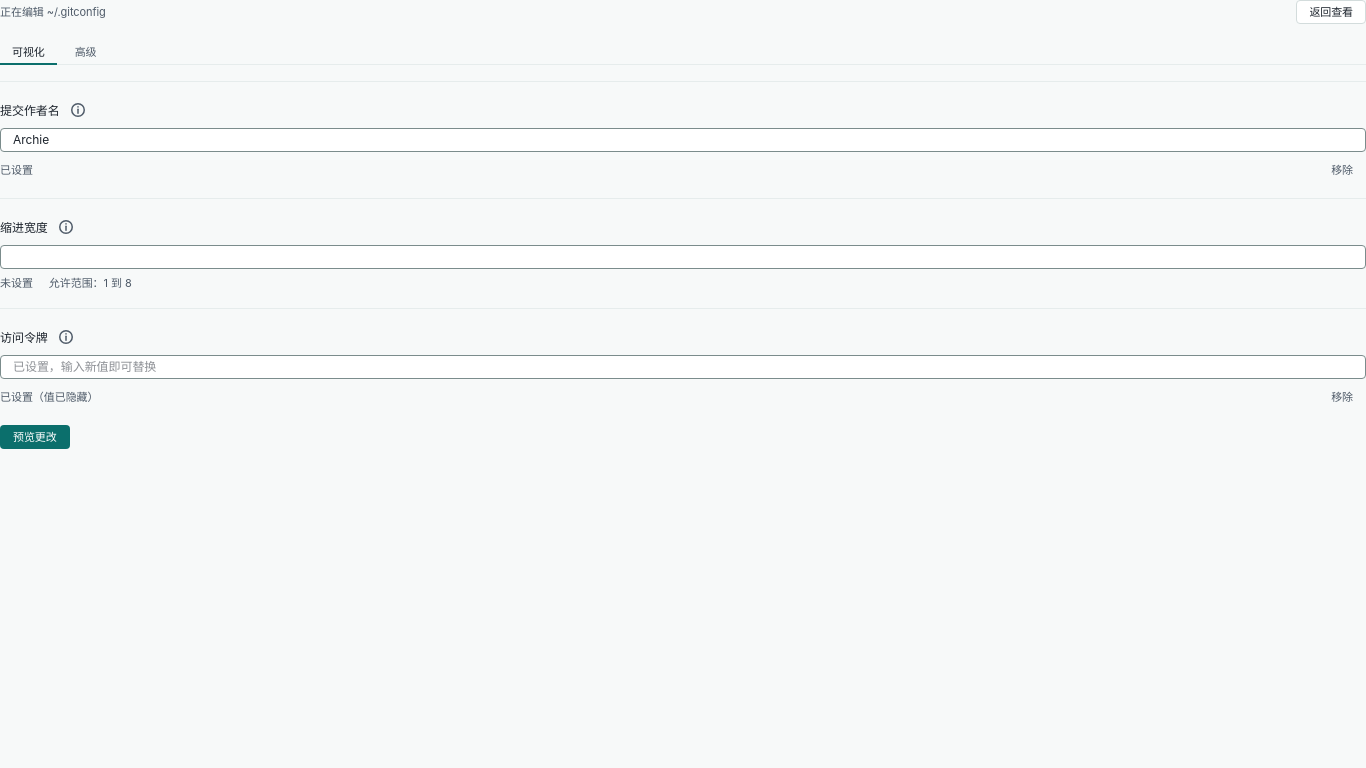
Scenario: AppConfigEditor 预览、确认与冲突 › does not write anything when the preview is cancelled
Expected: the button "预览更改" is shown, [0,425,70,449]
Replace the text in the field labelled "提交作者名" with "Bo" at [683, 140], box [0,128,1365,152]
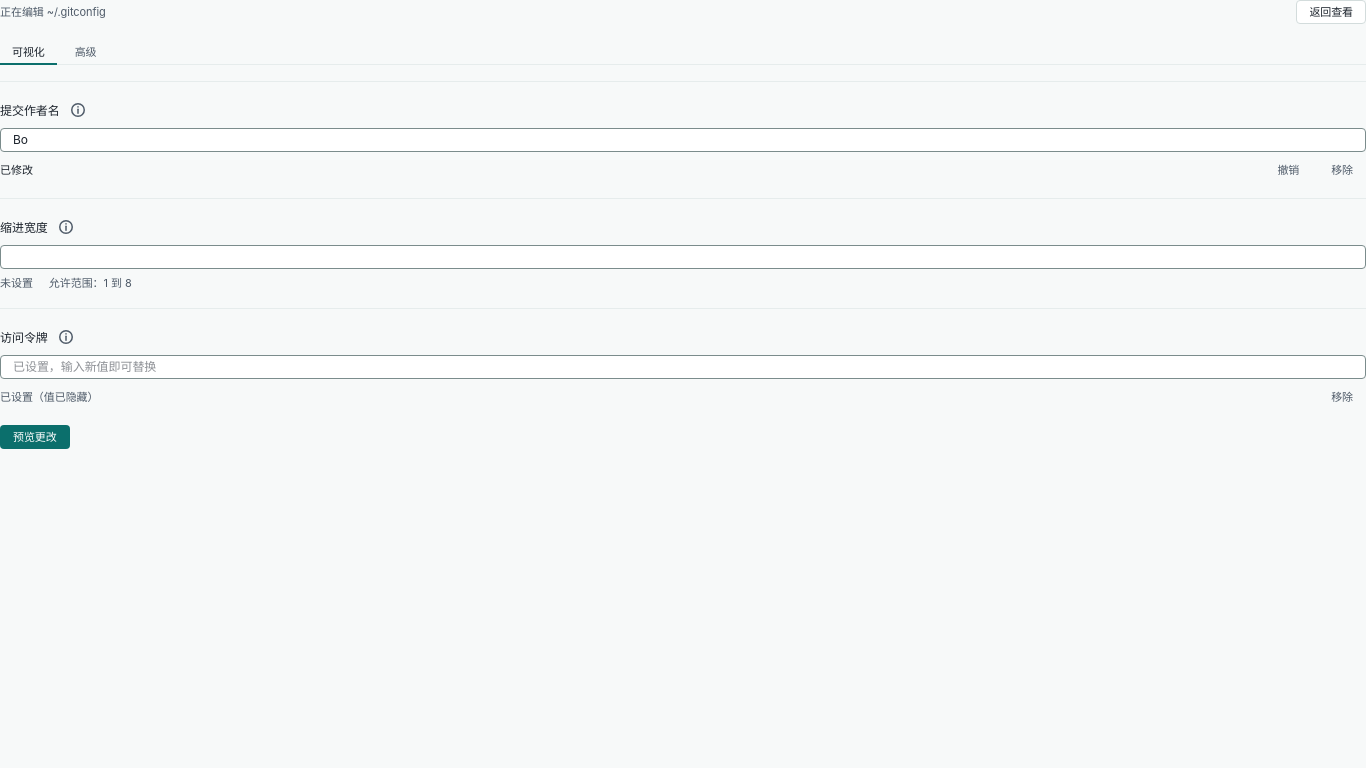
Click the button "预览更改" at [35, 437], box [0,425,70,449]
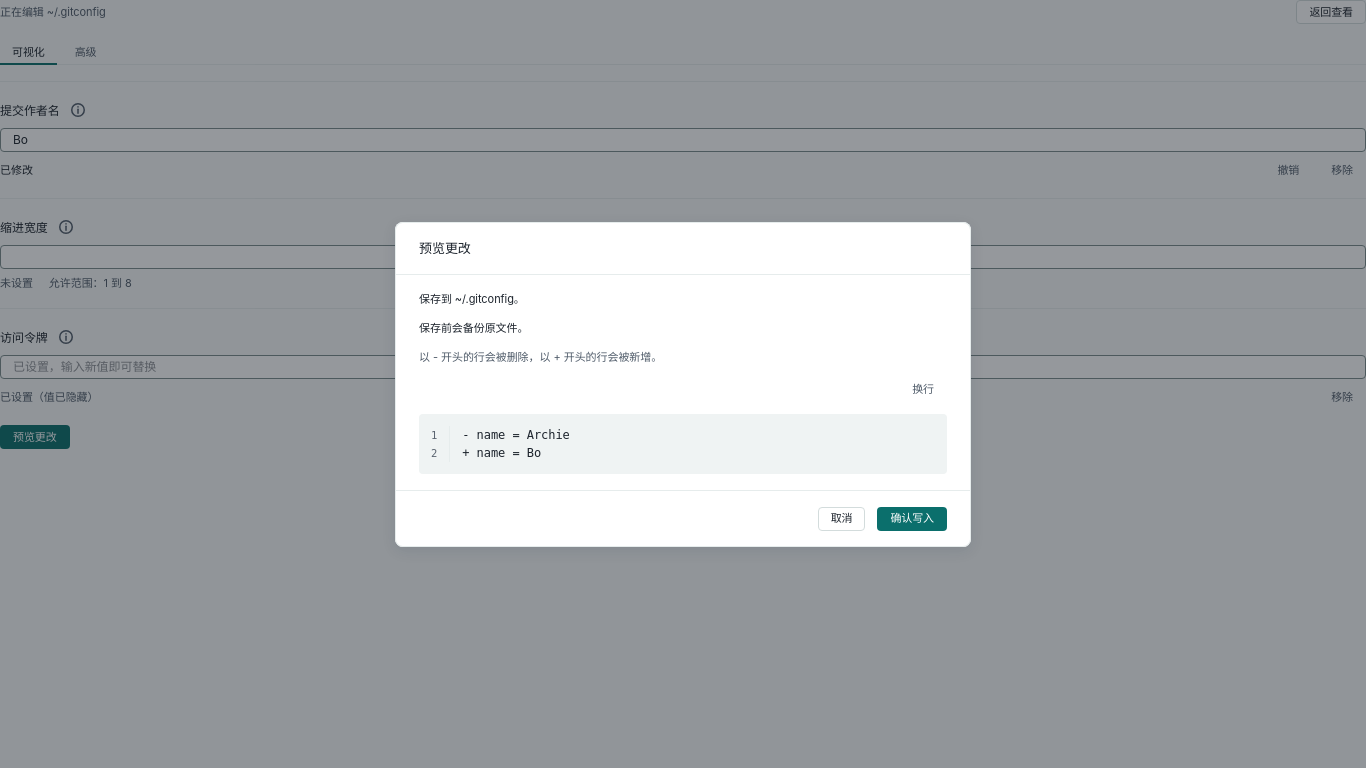
Result: the button "确认写入" is shown at [877,506,947,530]
Click the button "取消" at [842, 518], box [818,506,866,530]
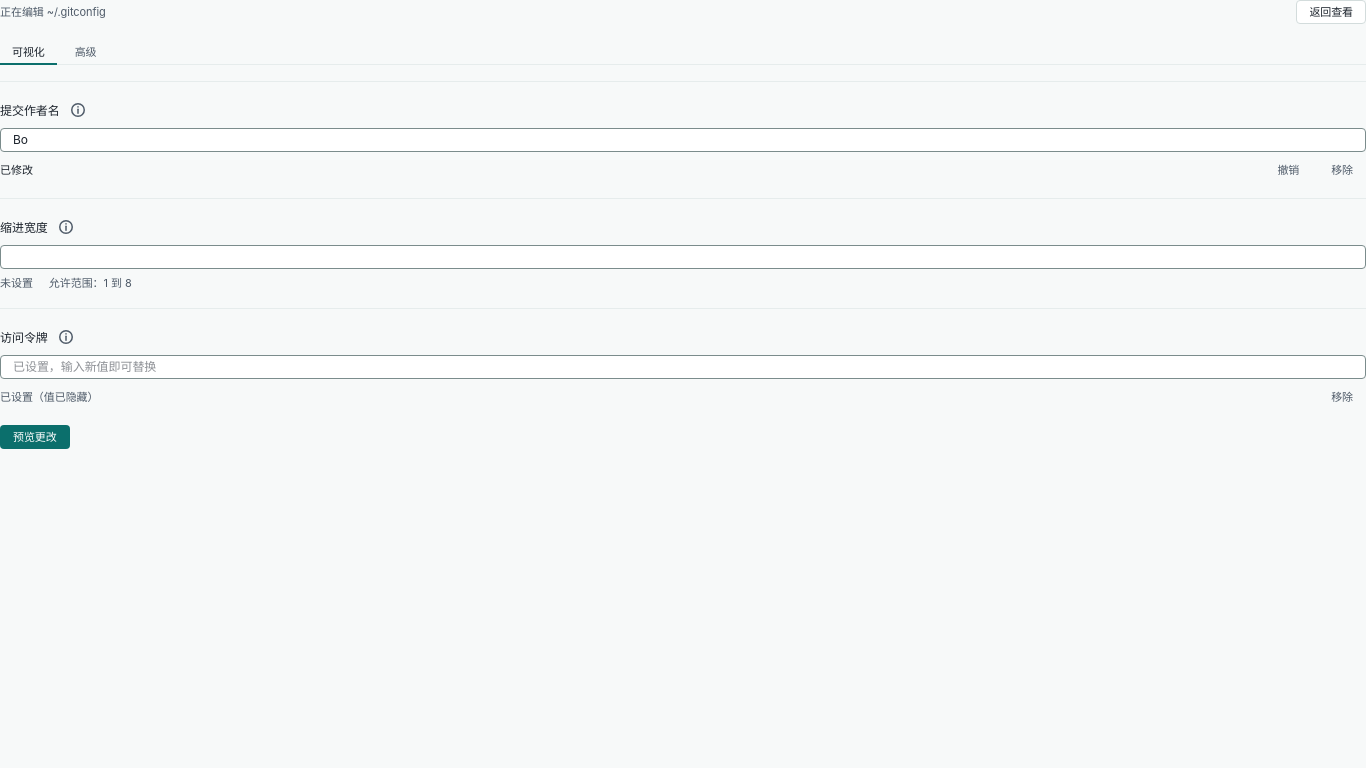
Result: the button "确认写入" is gone
